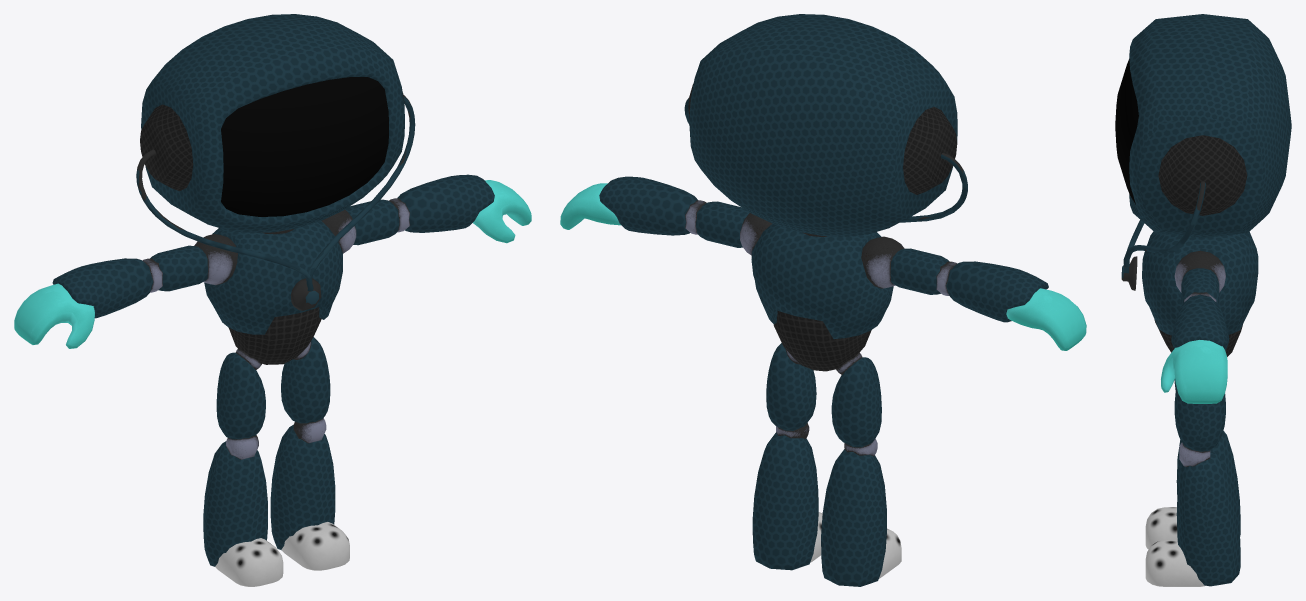
3 renders of one model, left to right at view 1: azimuth 30°, elevation 25°; view 2: azimuth 150°, elevation 25°; view 3: azimuth 270°, elevation 25°, orthographic.
Visible parts, largest first — view 1: SK_Clip_Base; view 2: SK_Clip_Base; view 3: SK_Clip_Base.
Part boxes in pixels (left/top/right/bottom): SK_Clip_Base: left=14, top=14, right=531, bottom=586; SK_Clip_Base: left=560, top=14, right=1086, bottom=586; SK_Clip_Base: left=1115, top=14, right=1291, bottom=586.
Size of the model in its own units: 0.9981 by 1 by 0.3039.
2 materials, 1 textured.
